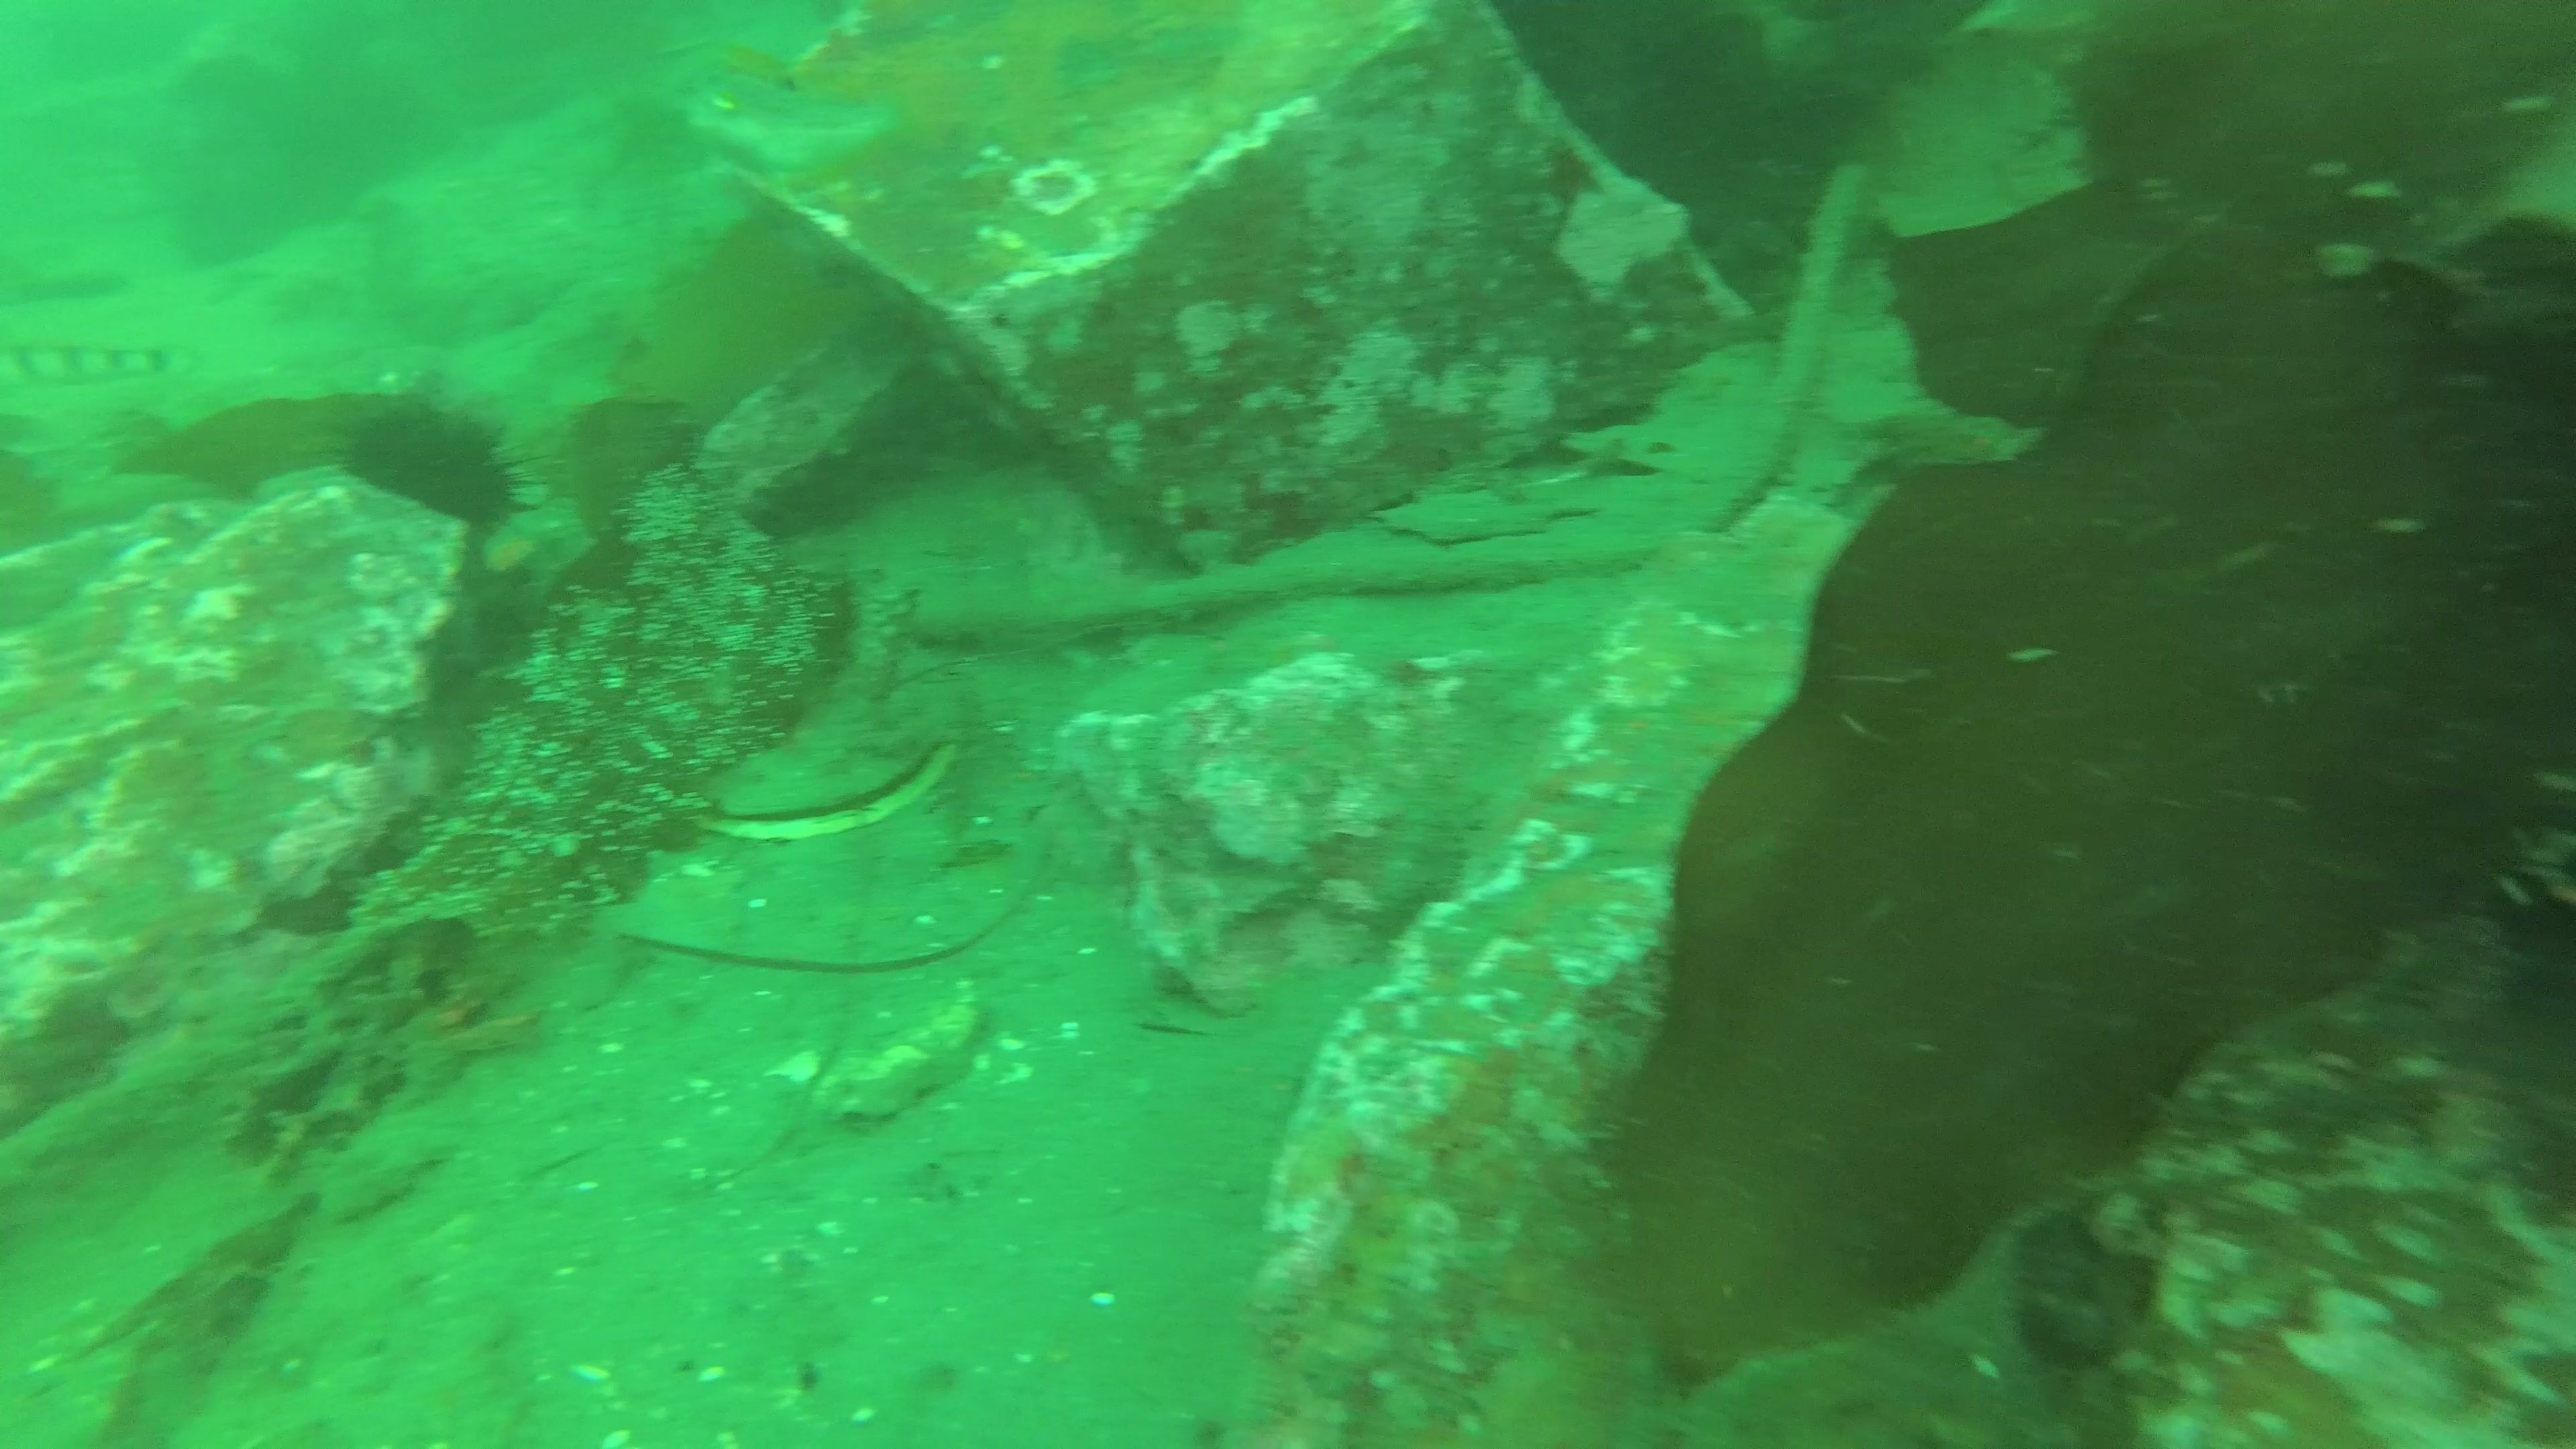echinus: (341, 400, 543, 543)
